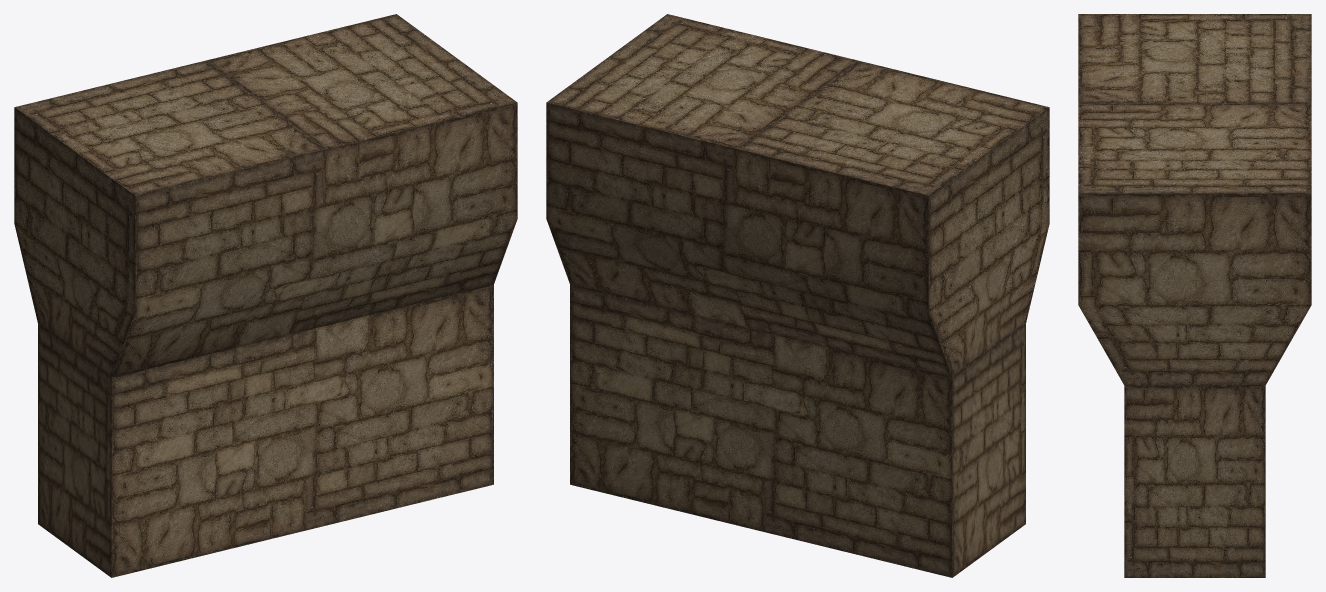
The model's file is Wall_03.fbx.
The picture shows the model from 3 angles, left to right: view 1: azimuth 30°, elevation 25°; view 2: azimuth 150°, elevation 25°; view 3: azimuth 270°, elevation 25°; orthographic projection. The views are drawn at different scales.
Parts seen in each view (by area): view 1: Wall_03; view 2: Wall_03; view 3: Wall_03.
Boxes of the visible parts, x1=… form: Wall_03: x1=14, y1=14, x2=517, y2=577; Wall_03: x1=546, y1=14, x2=1049, y2=577; Wall_03: x1=1078, y1=14, x2=1311, y2=577.
Bounding box in the file's own units: 8 × 7.99 × 4.39.
